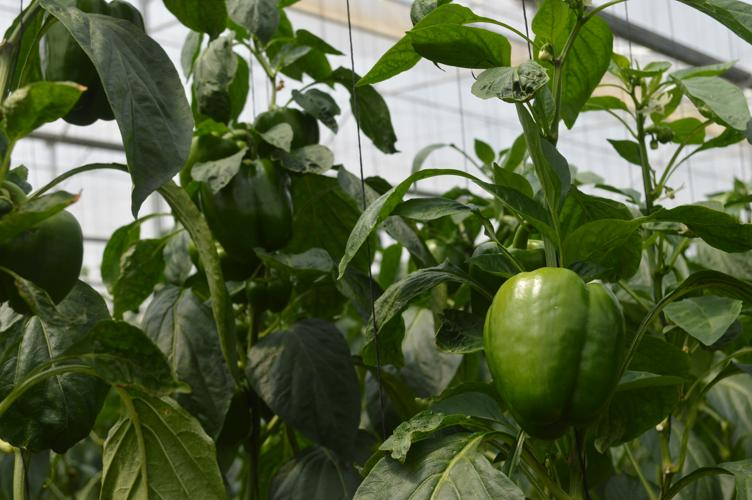BellPepper: (485, 267, 623, 432), (198, 160, 292, 260), (1, 212, 87, 309), (181, 134, 234, 176)
